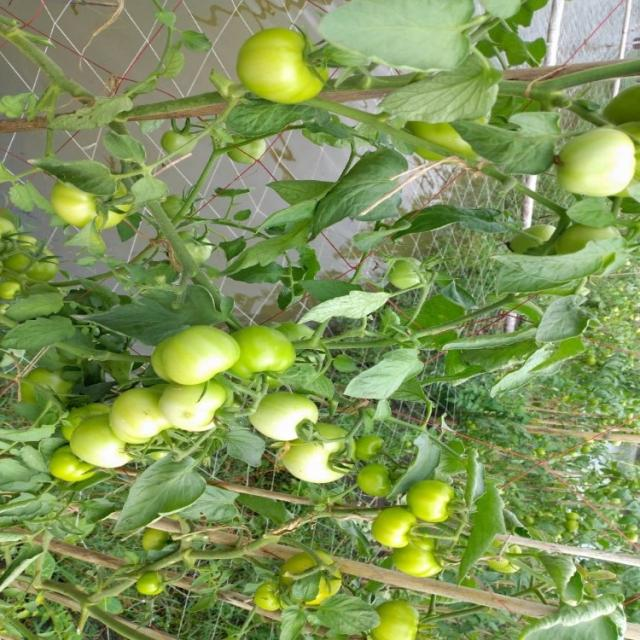tomato: (227, 19, 345, 116), (547, 125, 640, 226), (206, 316, 312, 400), (146, 313, 240, 393), (243, 386, 337, 454), (44, 157, 124, 236), (286, 408, 365, 484), (385, 515, 457, 585), (58, 401, 130, 470), (107, 386, 181, 450), (156, 374, 231, 428), (402, 461, 470, 516), (8, 224, 58, 294), (293, 549, 344, 612), (375, 594, 443, 640), (347, 456, 409, 500), (32, 452, 100, 492), (486, 529, 527, 586), (383, 258, 430, 300), (378, 507, 418, 552), (160, 118, 197, 150), (254, 584, 283, 622), (138, 569, 168, 605), (136, 529, 179, 553), (1, 215, 20, 260)
